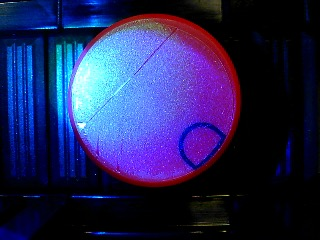MIPO1: (68, 14, 241, 187)
